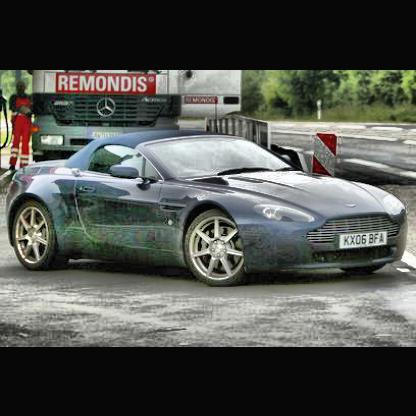Aston Martin V8 Vantage Convertible 2012: (4, 131, 412, 289)
